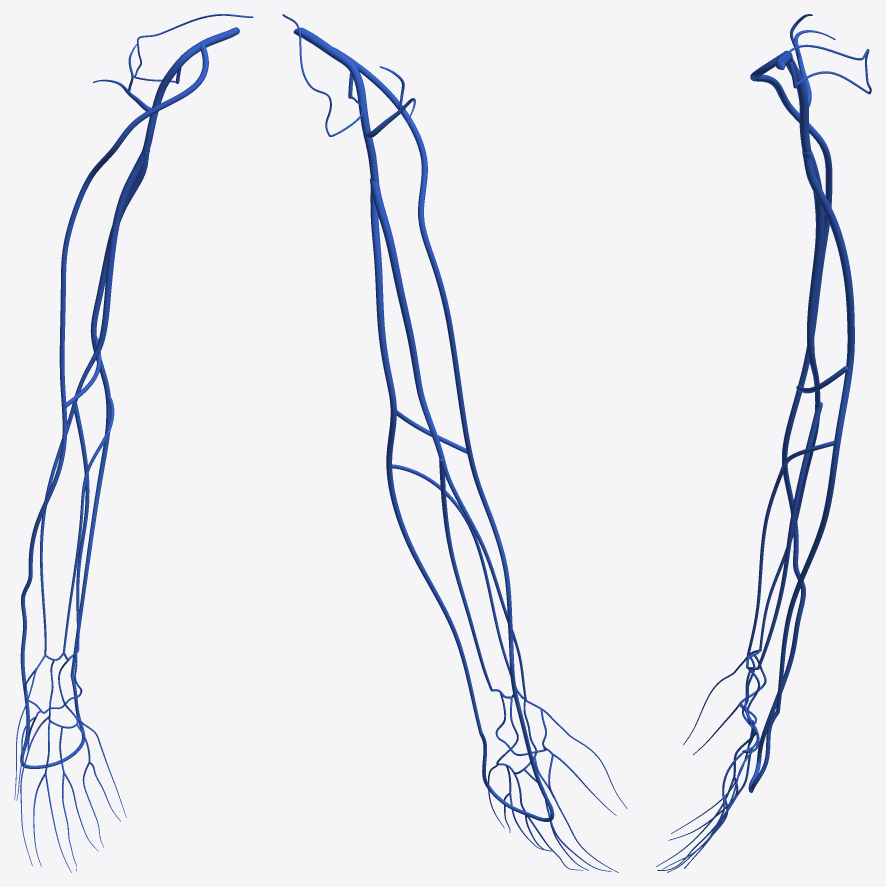
The model's file is veins.upper_limb_right.glb.
The picture shows the model from 3 angles, left to right: view 1: azimuth 30°, elevation 25°; view 2: azimuth 150°, elevation 25°; view 3: azimuth 270°, elevation 25°; orthographic projection. The views are drawn at different scales.
Visible parts, largest first — view 1: right_cephalic_vein, right_basilic_vein, right_medial_brachial_vein, right_axillary_vein, right_ulnar_vein, right_median_antebrachial_vein, right_radial_vein, proper_palmar_digital_vein_of_right_little_finger, dorsal_venous_network_of_right_hand, right_palmar_metacarpal_vein; view 2: right_cephalic_vein, right_basilic_vein, right_medial_brachial_vein, right_axillary_vein, right_ulnar_vein, right_radial_vein, right_median_antebrachial_vein, dorsal_venous_network_of_right_hand; view 3: right_basilic_vein, right_cephalic_vein, right_medial_brachial_vein, right_ulnar_vein, right_median_antebrachial_vein, right_axillary_vein, dorsal_venous_network_of_right_hand, proper_palmar_digital_vein_of_right_little_finger, right_radial_vein, right_anterior_circumflex_humeral_vein, right_superficial_palmar_venous_arch.
Part boxes in pixels (bbox=[...]): right_cephalic_vein: bbox=[20, 44, 208, 703]; right_basilic_vein: bbox=[70, 151, 149, 674]; right_medial_brachial_vein: bbox=[73, 150, 150, 402]; right_axillary_vein: bbox=[142, 27, 239, 153]; right_ulnar_vein: bbox=[68, 403, 89, 661]; right_median_antebrachial_vein: bbox=[53, 395, 114, 660]; right_radial_vein: bbox=[40, 400, 77, 655]; proper_palmar_digital_vein_of_right_little_finger: bbox=[21, 716, 126, 821]; dorsal_venous_network_of_right_hand: bbox=[20, 675, 85, 768]; right_palmar_metacarpal_vein: bbox=[14, 655, 45, 800]; right_cephalic_vein: bbox=[334, 47, 534, 764]; right_basilic_vein: bbox=[370, 180, 482, 733]; right_medial_brachial_vein: bbox=[369, 178, 445, 460]; right_axillary_vein: bbox=[293, 27, 379, 181]; right_ulnar_vein: bbox=[439, 458, 512, 698]; right_radial_vein: bbox=[440, 455, 526, 700]; right_median_antebrachial_vein: bbox=[392, 464, 524, 699]; dorsal_venous_network_of_right_hand: bbox=[479, 732, 554, 821]; right_basilic_vein: bbox=[776, 151, 854, 712]; right_cephalic_vein: bbox=[750, 52, 832, 705]; right_medial_brachial_vein: bbox=[802, 151, 824, 407]; right_ulnar_vein: bbox=[746, 401, 822, 670]; right_median_antebrachial_vein: bbox=[746, 441, 834, 667]; right_axillary_vein: bbox=[775, 50, 811, 152]; dorsal_venous_network_of_right_hand: bbox=[748, 704, 779, 792]; proper_palmar_digital_vein_of_right_little_finger: bbox=[684, 719, 755, 868]; right_radial_vein: bbox=[759, 404, 819, 649]; right_anterior_circumflex_humeral_vein: bbox=[790, 14, 835, 107]; right_superficial_palmar_venous_arch: bbox=[742, 650, 761, 752].
Bounding box in the file's own units: 0.2608 × 0.689 × 0.142.
